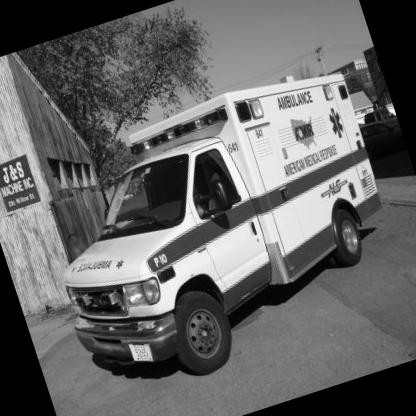ambulance: (17, 24, 416, 416)
